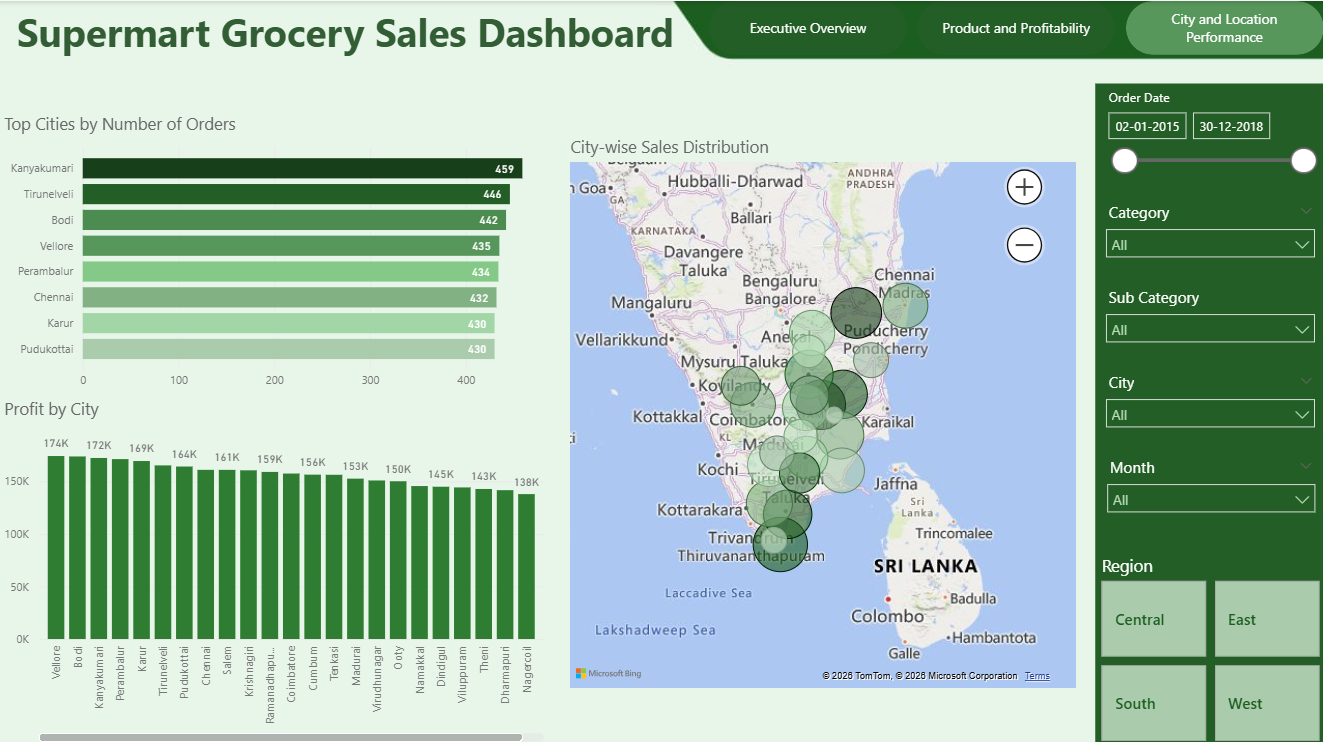

The dashboard page shown, as its layout file describes it:
{"tool":"powerbi","page":{"name":"City and Location Performance","canvas":[1280,720],"ordinal":2},"visuals":[{"type":"clusteredBarChart","title":"Top Cities by Number of Orders","fields":{"Category":["Sheet1.City"],"Y":["CountNonNull(Sheet1.Order ID)"]},"box":[0,107,546.1,275.8],"z":0},{"type":"map","title":"City-wise Sales Distribution","fields":{"Size":["Sum(Sheet1.Sales)"],"Category":["Sheet1.Full Location"]},"box":[546.1,129,498.1,539.3],"z":1000},{"type":"clusteredColumnChart","title":"Profit by City","fields":{"Category":["Sheet1.City"],"Y":["Sum(Sheet1.Profit)"]},"box":[0,382.8,531,337.6],"z":2000},{"type":"textbox","box":[1057.7,79.2,222.3,640.8],"z":3000},{"type":"pageNavigator","box":[685.8,0,594.2,52.1],"z":4000},{"type":"slicer","fields":{"Values":["Sheet1.Category"]},"box":[1057.7,187.9,222.3,75.5],"z":5000},{"type":"slicer","fields":{"Values":["Sheet1.Sub Category"]},"box":[1057.7,270.2,222.3,75.5],"z":6000},{"type":"slicer","fields":{"Values":["Sheet1.City"]},"box":[1057.7,352.4,222.3,75.5],"z":7000},{"type":"slicer","fields":{"Values":["Sheet1.Order Date"]},"box":[1057.7,79.6,222.3,101.5],"z":8000},{"type":"advancedSlicerVisual","fields":{"Values":["Sheet1.Region"]},"box":[1059.1,533.4,220.9,186.6],"z":9000},{"type":"slicer","fields":{"Values":["Sheet1.Month"]},"box":[1059.1,434.7,220.9,91.9],"z":10000},{"type":"textbox","box":[12.3,0,684.7,79.6],"z":11000}]}

Visuals, with their boxes in screenshot pixels (x1, y1, x2, y2), scaled from the page's 1280x720 canvas onto the 1323x742 screenshot:
"Top Cities by Number of Orders" clusteredBarChart: <region>0, 110, 564, 394</region>
"City-wise Sales Distribution" map: <region>564, 133, 1079, 689</region>
"Profit by City" clusteredColumnChart: <region>0, 394, 549, 741</region>
textbox: <region>1093, 82, 1322, 741</region>
pageNavigator: <region>709, 0, 1322, 54</region>
slicer - Sheet1.Category: <region>1093, 194, 1322, 271</region>
slicer - Sheet1.Sub Category: <region>1093, 278, 1322, 356</region>
slicer - Sheet1.City: <region>1093, 363, 1322, 441</region>
slicer - Sheet1.Order Date: <region>1093, 82, 1322, 187</region>
advancedSlicerVisual - Sheet1.Region: <region>1095, 550, 1322, 741</region>
slicer - Sheet1.Month: <region>1095, 448, 1322, 543</region>
textbox: <region>13, 0, 720, 82</region>
